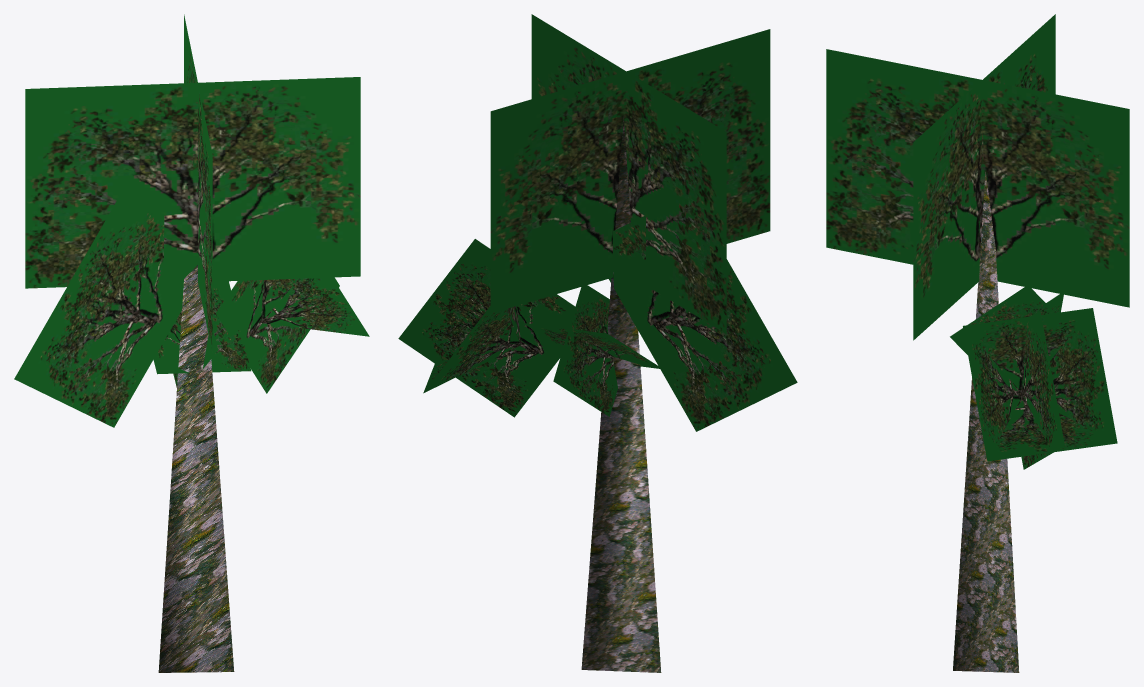
The model's file is decd_mosstreeflared_l3.fbx.
3 renders of one model, left to right at view 1: azimuth 30°, elevation 25°; view 2: azimuth 150°, elevation 25°; view 3: azimuth 270°, elevation 25°, orthographic.
Parts seen in each view (by area): view 1: mesh_node; view 2: mesh_node; view 3: mesh_node.
Boxes of the visible parts, x1,y1,x2,y2 form: mesh_node: (14,14,369,672); mesh_node: (398,14,797,672); mesh_node: (826,14,1129,672).
Size of the model in its own units: 10.33 by 15.99 by 7.57.
